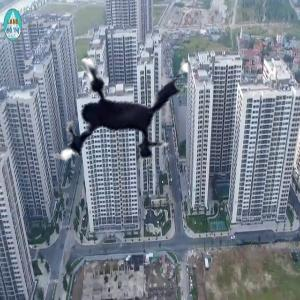drone: (23, 8, 211, 196)
